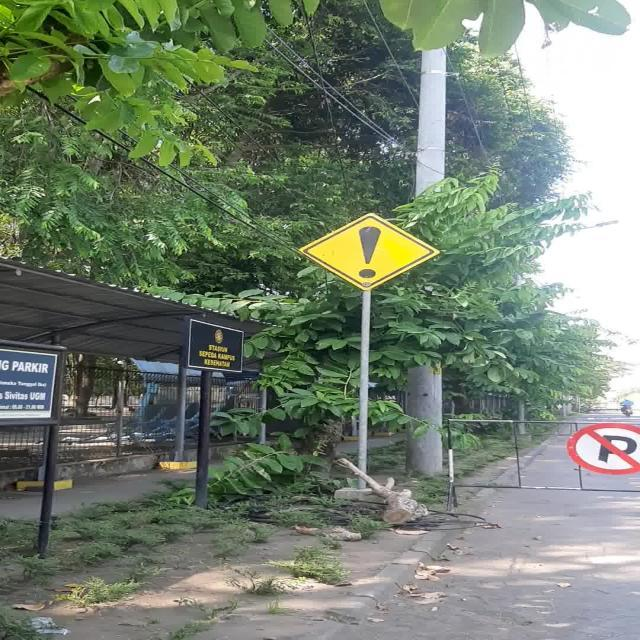Hati-Hati: (298, 212, 440, 290)
